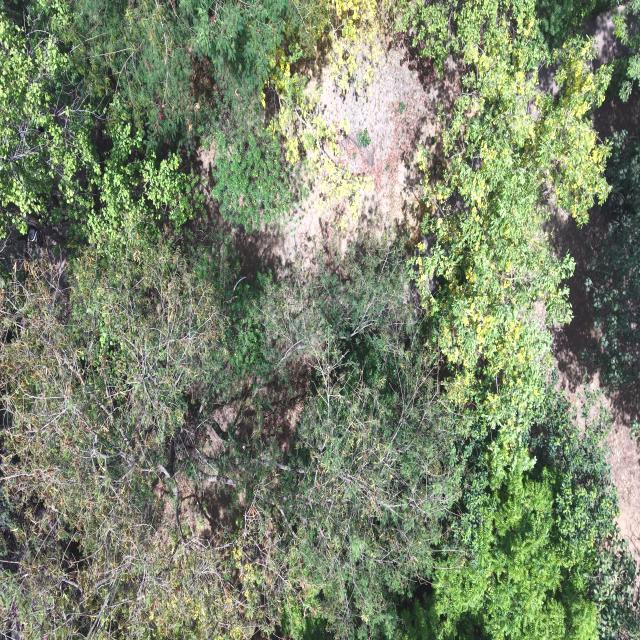DRY_AREA: (196, 47, 458, 281), (230, 48, 459, 278), (231, 48, 459, 276), (231, 46, 458, 273), (232, 43, 459, 269), (549, 208, 639, 562), (551, 208, 639, 561), (552, 211, 639, 556), (154, 366, 307, 549), (318, 48, 458, 243), (556, 348, 639, 562), (606, 386, 639, 561), (608, 392, 639, 561), (582, 5, 631, 68), (582, 5, 630, 69), (583, 5, 630, 66), (593, 87, 639, 138), (593, 89, 639, 138)
VEGETATION_TREE: (0, 0, 639, 639), (0, 240, 615, 637), (0, 240, 455, 637), (400, 3, 637, 638), (1, 239, 263, 637), (400, 3, 609, 477), (2, 2, 358, 237), (418, 21, 608, 428), (276, 239, 458, 637), (1, 3, 295, 235), (402, 388, 639, 639), (0, 16, 196, 242), (0, 14, 91, 235), (397, 0, 614, 68), (585, 122, 639, 392), (585, 131, 639, 387), (210, 130, 293, 229), (536, 0, 615, 48), (613, 0, 639, 101)
